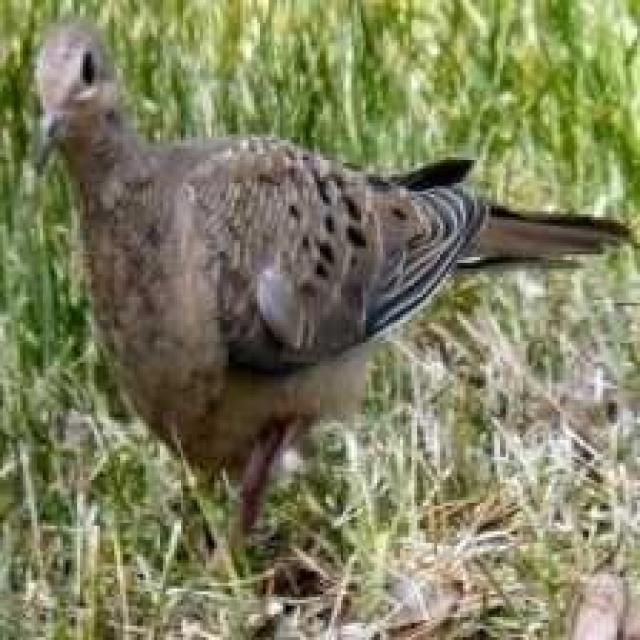bird: (25, 20, 640, 562)
